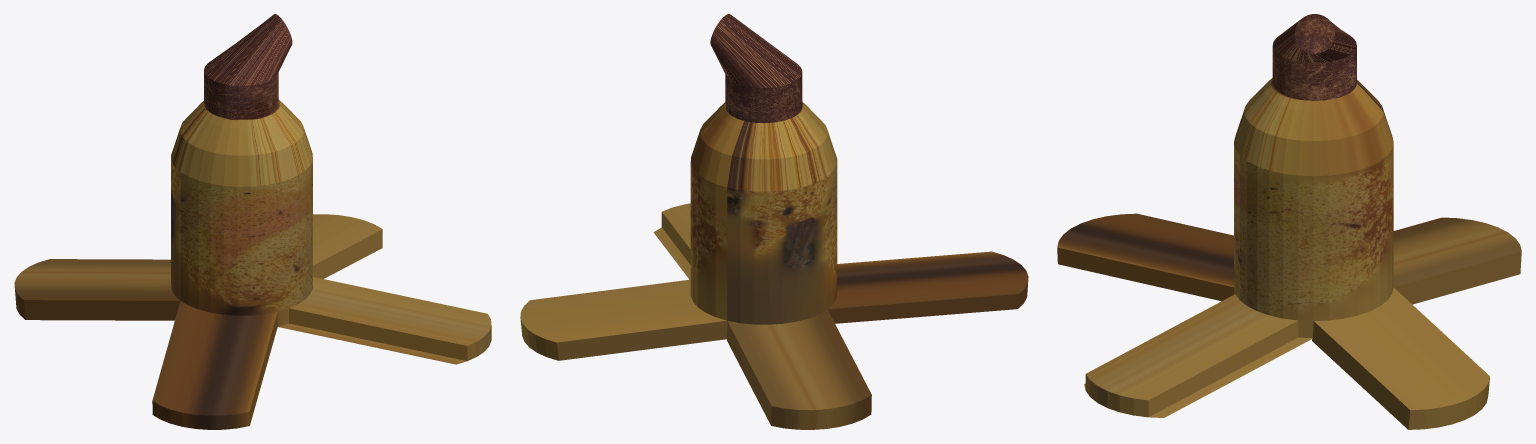
The model's file is peel.glb.
The picture shows the model from 3 angles, left to right: view 1: azimuth 30°, elevation 25°; view 2: azimuth 150°, elevation 25°; view 3: azimuth 270°, elevation 25°; orthographic projection. The views are drawn at different scales.
Visible parts, largest first — view 1: Peel, Stem; view 2: Peel, Stem; view 3: Peel, Stem.
Part boxes in pixels (bbox=[...]): Peel: bbox=[14, 99, 491, 429]; Stem: bbox=[204, 14, 292, 119]; Peel: bbox=[520, 102, 1028, 429]; Stem: bbox=[710, 14, 802, 122]; Peel: bbox=[1057, 78, 1521, 429]; Stem: bbox=[1272, 14, 1356, 100].
Bounding box in the file's own units: 5.71 × 4.64 × 5.81.
Materials: 2 (2 with a texture image).
